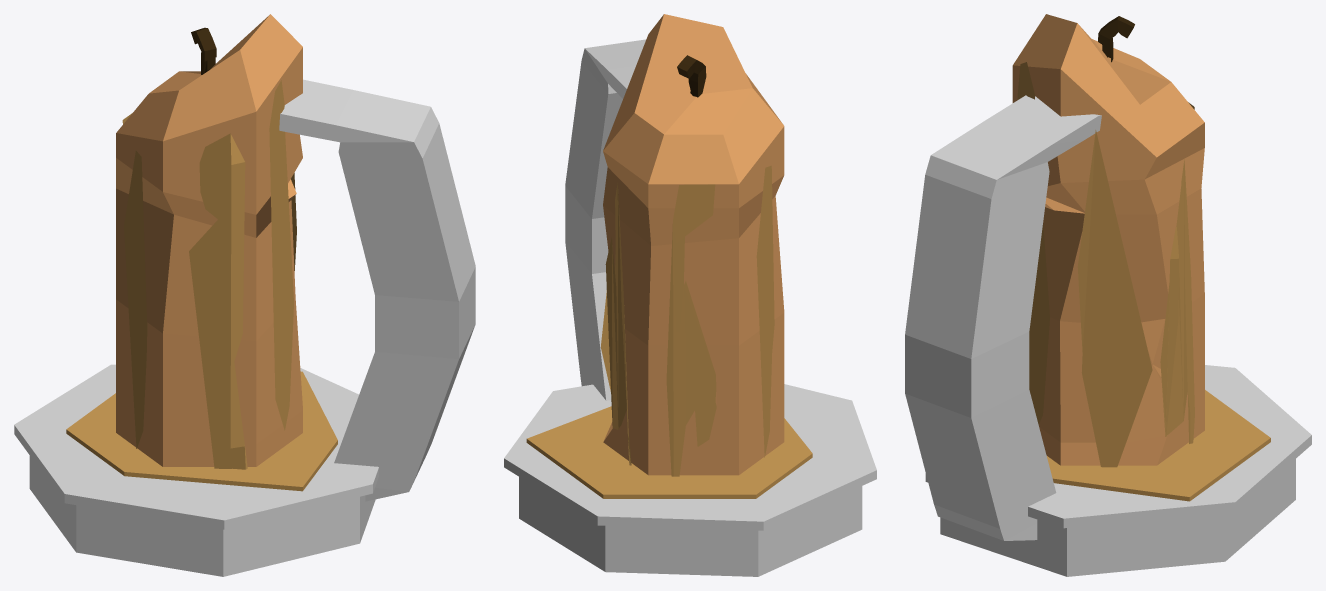
Rendered from RemadeCandleMelted(A)rename.fbx.
3 views of the same model, side by side, from view 1: azimuth 30°, elevation 25°; view 2: azimuth 150°, elevation 25°; view 3: azimuth 270°, elevation 25° (orthographic). The views are drawn at different scales.
Parts seen in each view (by area): view 1: Candle Remade(A, Handle(A, Dish(A, Melted wax(A, Melted wax Base(A, Wick(A; view 2: Candle Remade(A, Dish(A, Melted wax(A, Handle(A, Melted wax Base(A, Wick(A; view 3: Handle(A, Candle Remade(A, Dish(A, Melted wax(A, Melted wax Base(A, Wick(A.
Part boxes in pixels (x1,y1,x2,y2): Candle Remade(A: (116,14,302,466); Handle(A: (279,79,475,501); Dish(A: (14,364,378,576); Melted wax(A: (122,80,296,469); Melted wax Base(A: (66,371,337,491); Wick(A: (191,27,216,74); Candle Remade(A: (603,14,784,475); Dish(A: (504,384,876,576); Melted wax(A: (601,165,774,476); Handle(A: (565,39,646,400); Melted wax Base(A: (526,406,812,498); Wick(A: (677,55,706,97); Handle(A: (905,95,1101,540); Candle Remade(A: (1012,14,1204,465); Dish(A: (925,365,1311,576); Melted wax(A: (1017,62,1194,467); Melted wax Base(A: (1047,390,1270,501); Wick(A: (1098,16,1134,62).
Size of the model in its own units: 232 by 295 by 218.
